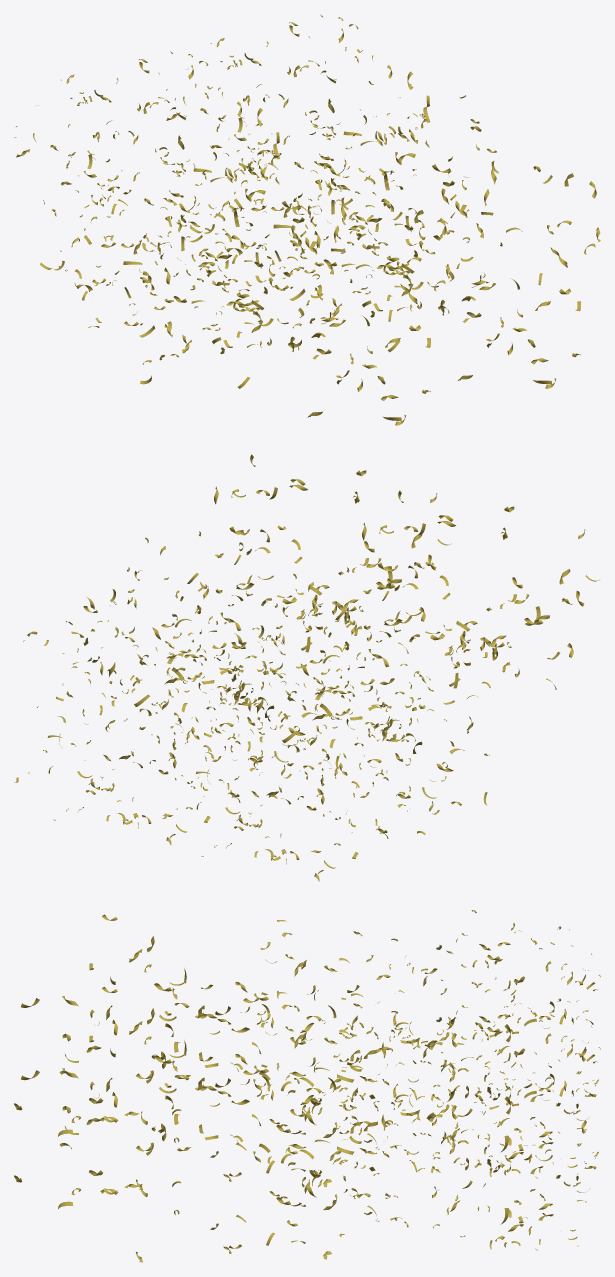
Rendered from Confetti_Only.glb.
3 views of the same model, one above another, from view 1: azimuth 30°, elevation 25°; view 2: azimuth 150°, elevation 25°; view 3: azimuth 270°, elevation 25° (orthographic).
Size of the model in its own units: 7.22 by 4.11 by 10.49.
